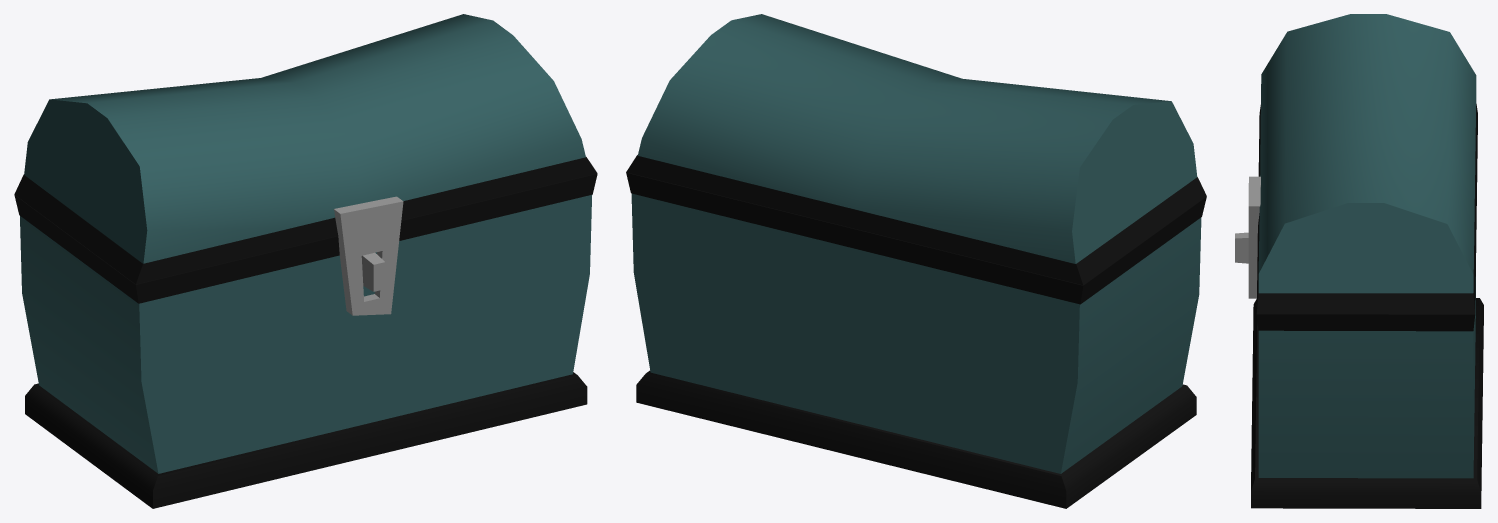
Rendered from chest living room.fbx.
The picture shows the model from 3 angles, left to right: view 1: azimuth 30°, elevation 25°; view 2: azimuth 150°, elevation 25°; view 3: azimuth 270°, elevation 25°; orthographic projection. The views are drawn at different scales.
Visible parts, largest first — view 1: chest living room, chest living room door; view 2: chest living room, chest living room door; view 3: chest living room door, chest living room.
Boxes of the visible parts, <box> form: chest living room: <box>14,173,597,508</box>; chest living room door: <box>14,14,597,315</box>; chest living room: <box>626,172,1206,508</box>; chest living room door: <box>626,14,1206,285</box>; chest living room door: <box>1248,14,1477,314</box>; chest living room: <box>1235,115,1483,508</box>.
Bounding box in the file's own units: 1.15 × 0.8307 × 0.6036.
